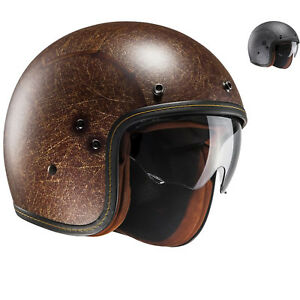with_helmet: (5, 19, 247, 245), (248, 18, 300, 73)
